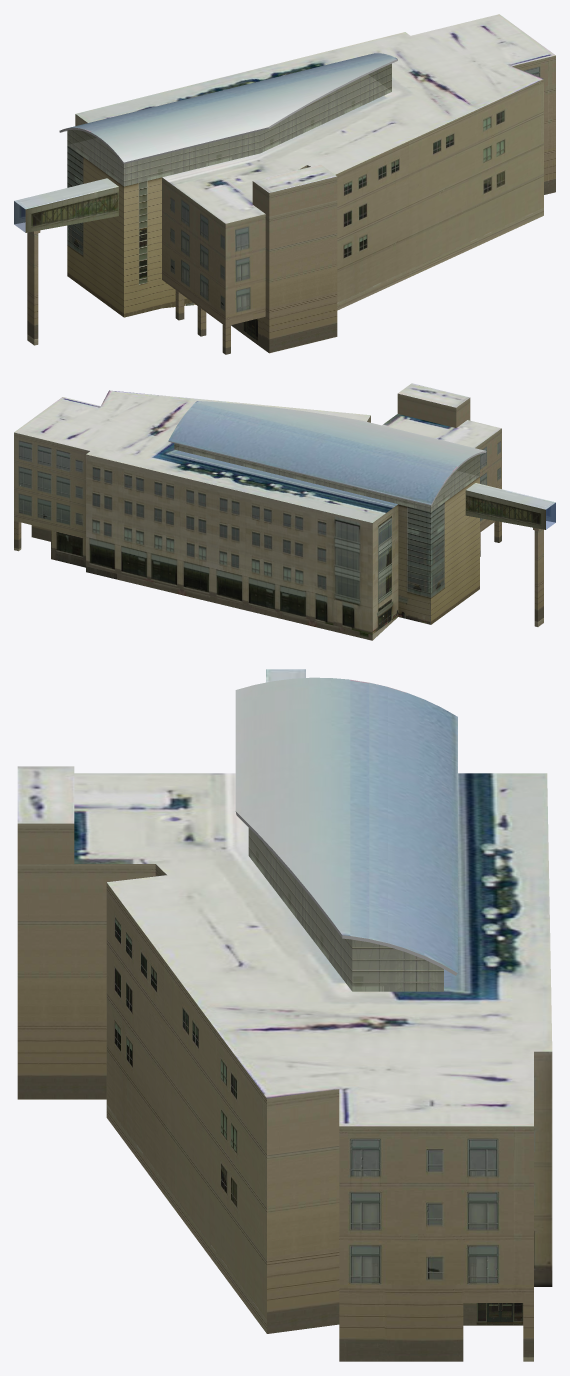
The model's file is rawl.fbx.
The picture shows the model from 3 angles, top to bottom: view 1: azimuth 30°, elevation 25°; view 2: azimuth 150°, elevation 25°; view 3: azimuth 270°, elevation 25°; orthographic projection. The views are drawn at different scales.
Parts seen in each view (by area): view 1: Model, rawls_hallway1; view 2: Model, rawls_hallway2; view 3: Model.
Part boxes in pixels (x1,y1,x2,y2): Model: [14, 14, 555, 354]; rawls_hallway1: [25, 187, 118, 232]; Model: [14, 383, 555, 640]; rawls_hallway2: [465, 490, 545, 529]; Model: [17, 669, 552, 1361].
Size of the model in its own units: 3635 by 1130 by 1772.
